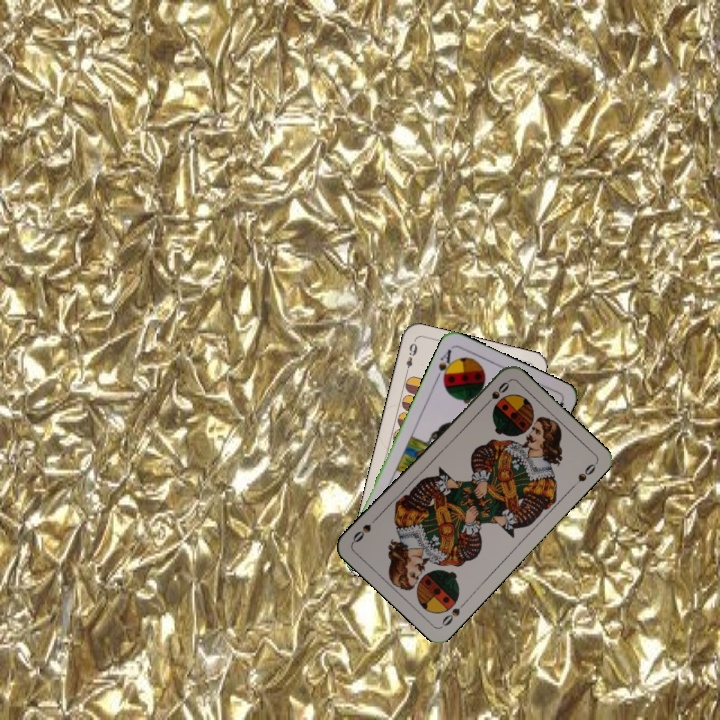E9: (401, 339, 420, 377)
SA: (431, 345, 457, 386)
SO: (480, 378, 512, 410), (438, 597, 469, 629)
